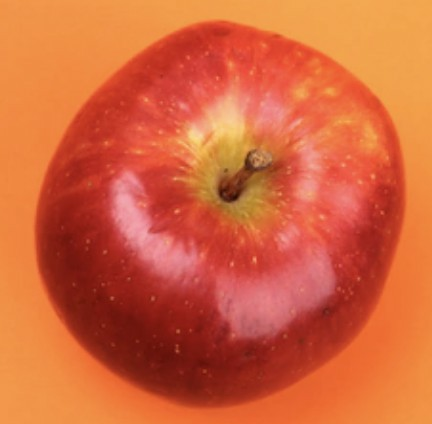fresh_apple: (39, 24, 411, 412)
